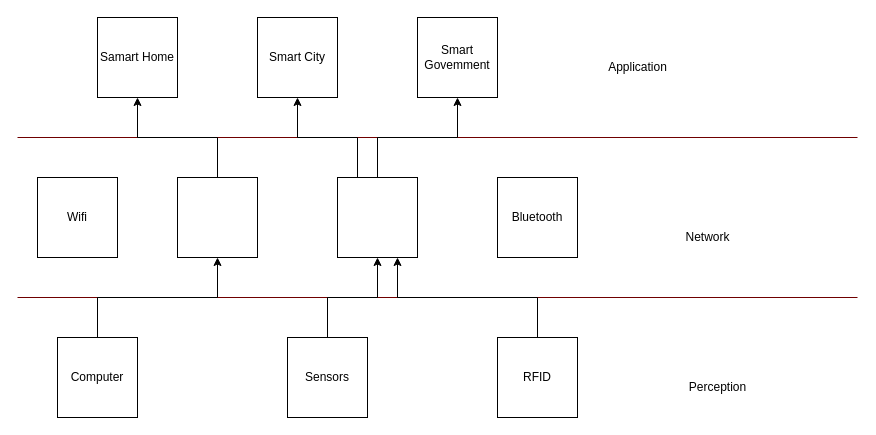
Some shapes in this 876 by 435 pixel diagram are drawn without their labels. The box of each missing label's shape, as (x1, y1, x2, y2) in pixels:
Access Point: (336, 176, 418, 258)
Router: (176, 176, 258, 258)
